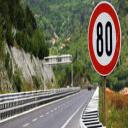speed_limit_80: (87, 0, 121, 74)
